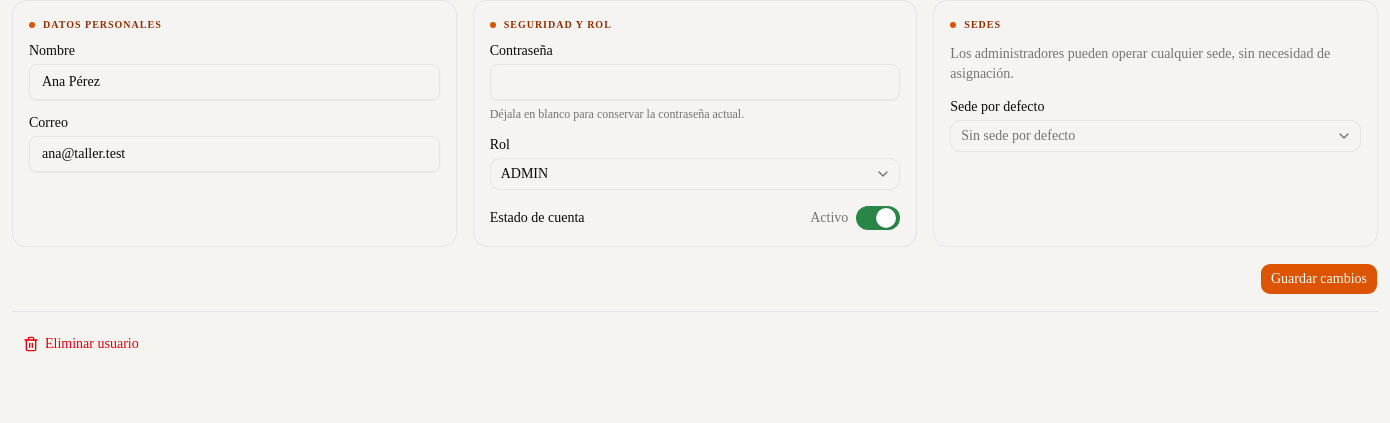
EditarUsuarioForm › shows the error returned by updateUsuarioAction
Click the button "Guardar cambios". click: (1319, 279)
box: [1260, 263, 1378, 295]
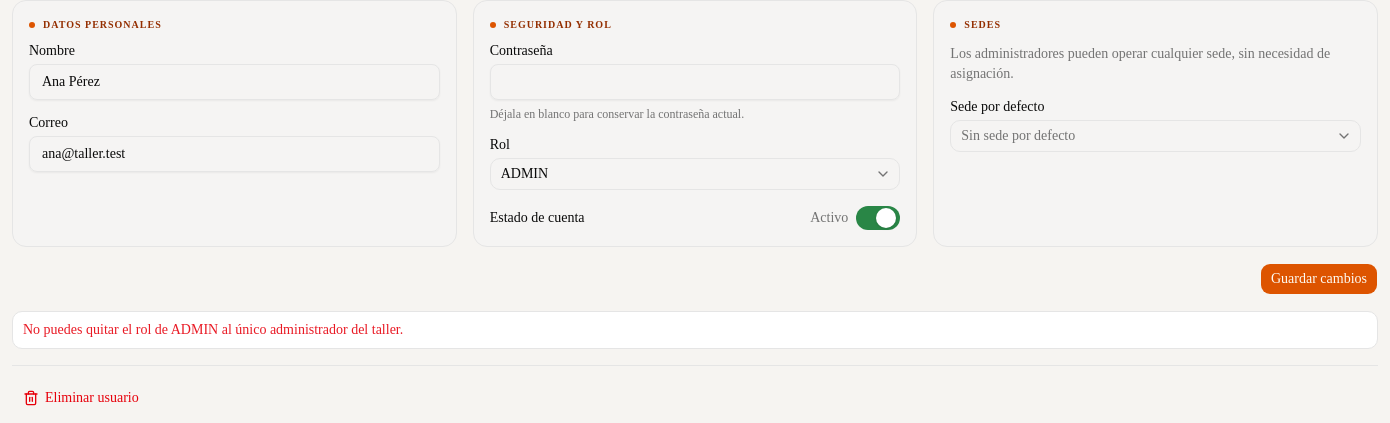
Check: the message reads "No puedes quitar el rol de ADMIN al único administrador del taller.", box [23, 322, 403, 337]
